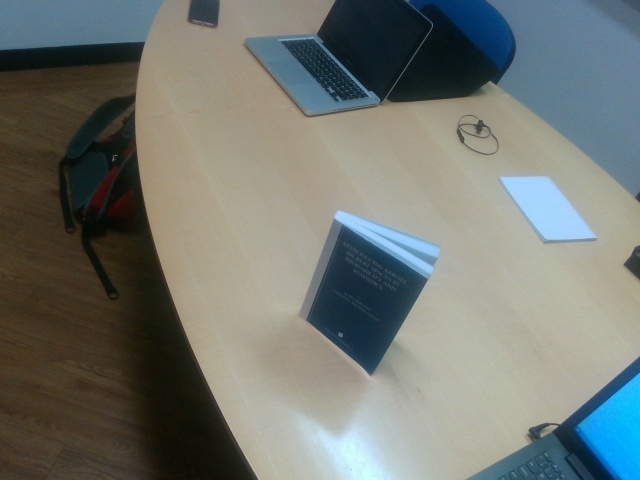book: (299, 210, 437, 381)
